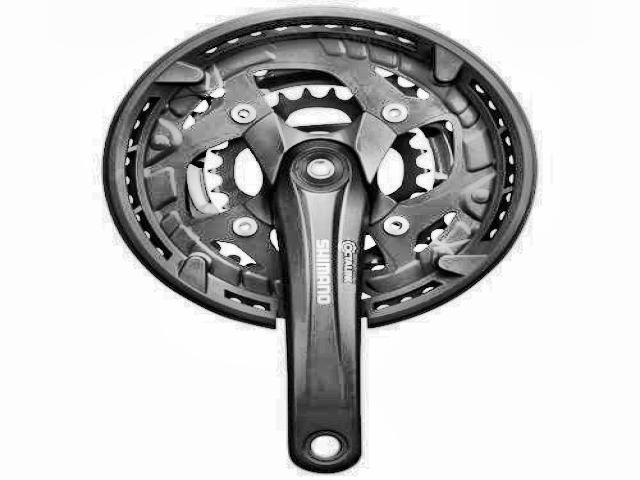cranks_set: (97, 3, 542, 478)
